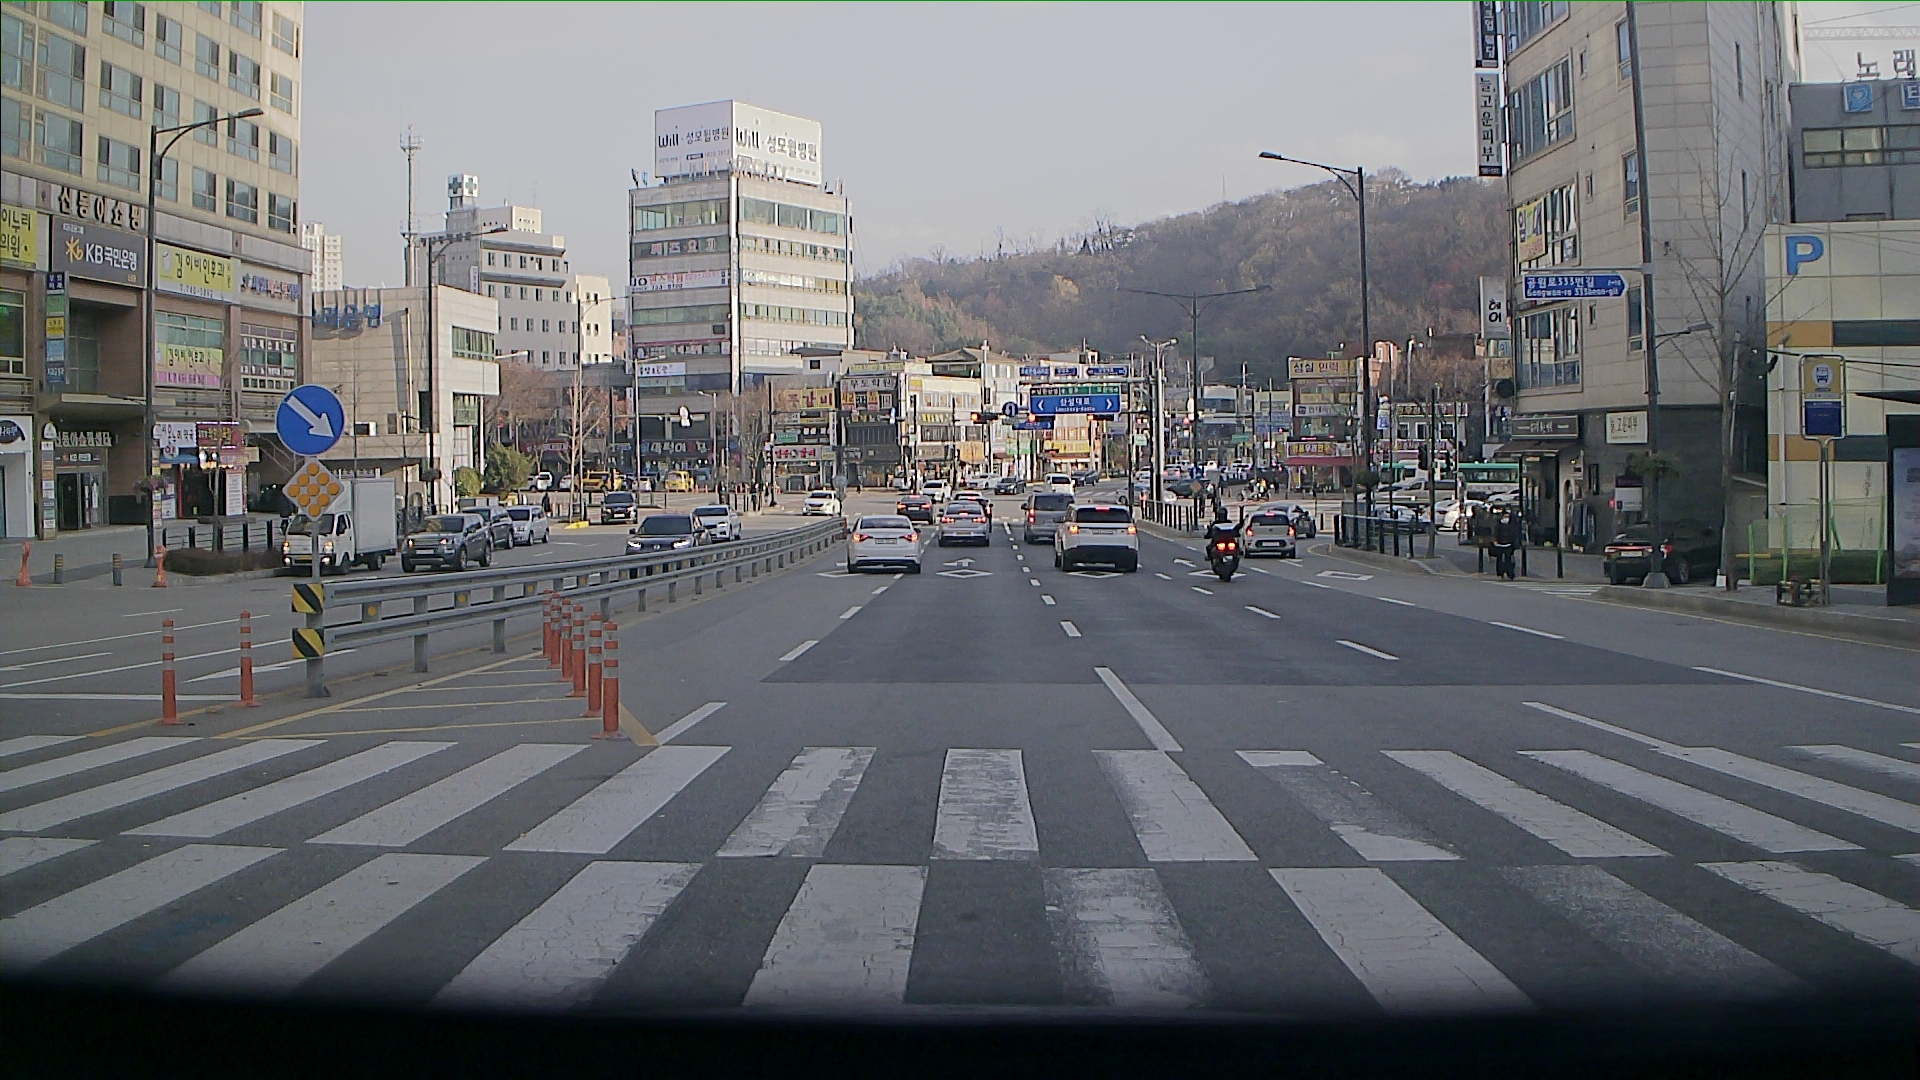trafficLight: (967, 409, 1120, 425)
